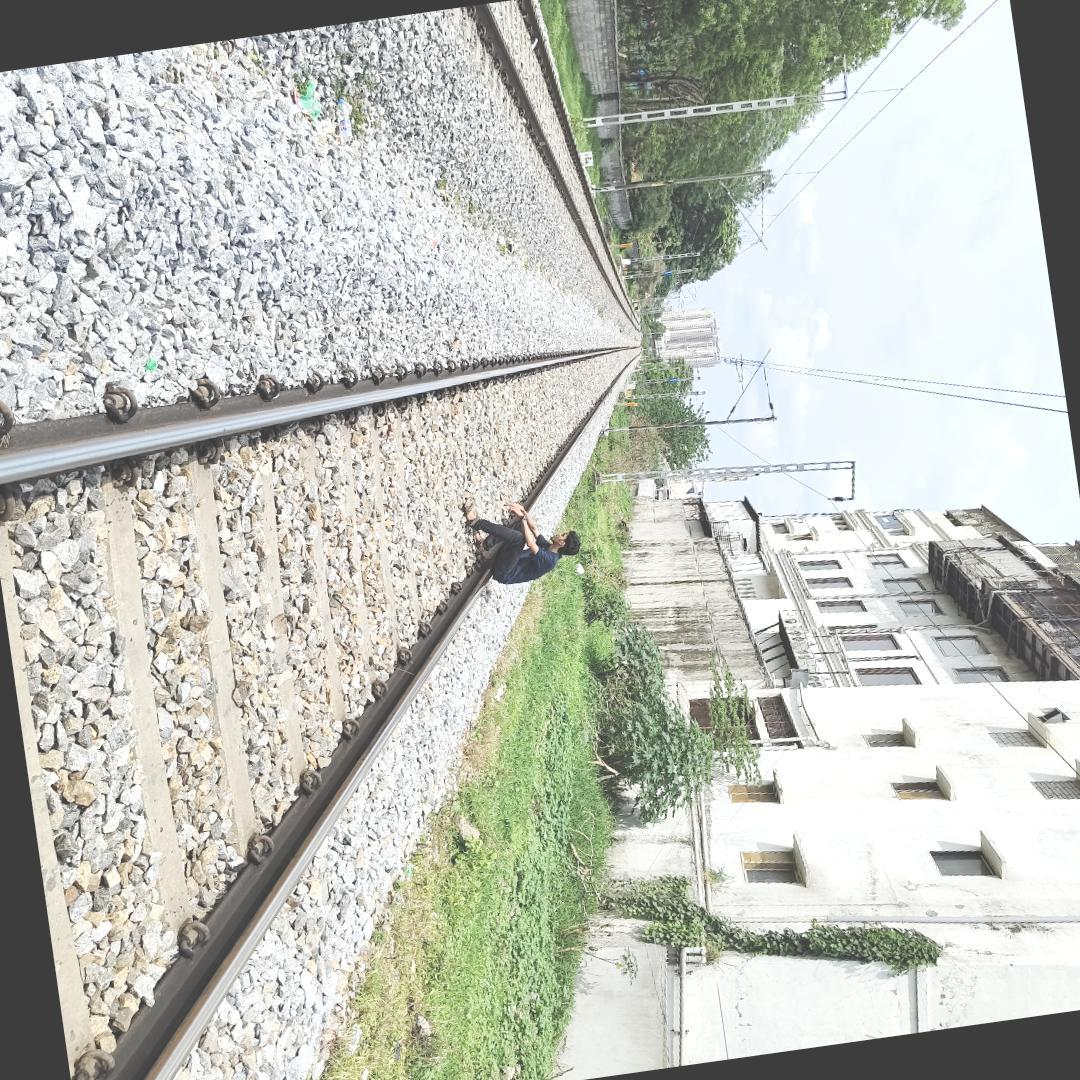sitting: (454, 494, 587, 616)
track: (0, 345, 648, 1080)
